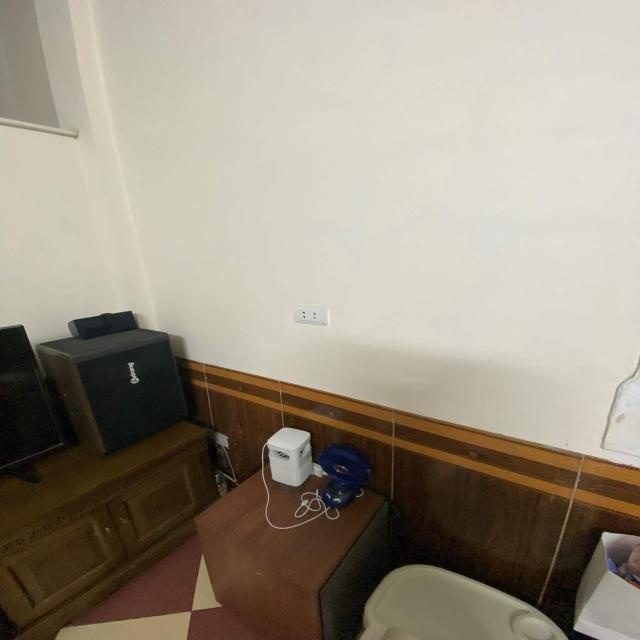outlet: (292, 306, 328, 326)
